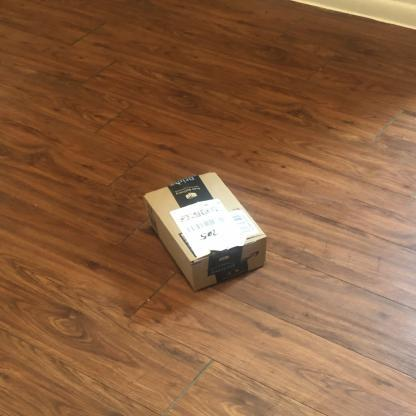package: (140, 170, 269, 294)
